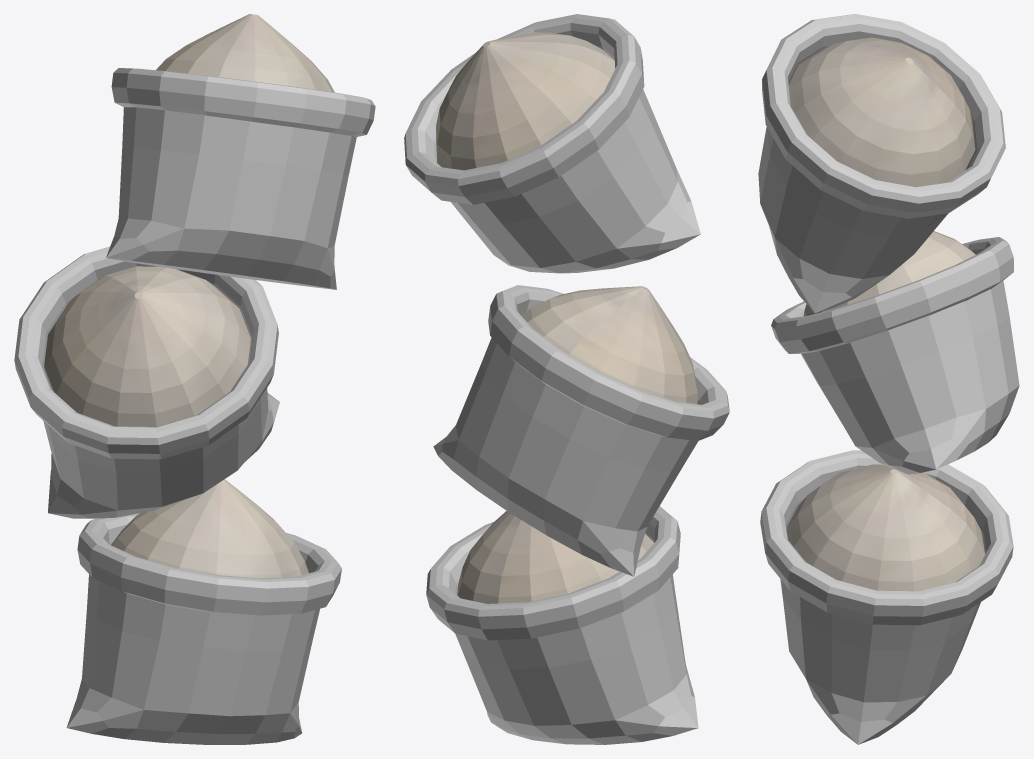
Rendered from flour3.fbx.
3 views of the same model, side by side, from view 1: azimuth 30°, elevation 25°; view 2: azimuth 150°, elevation 25°; view 3: azimuth 270°, elevation 25° (orthographic). The views are drawn at different scales.
Visible parts, largest first — view 1: Flour3; view 2: Flour3; view 3: Flour3.
Part boxes in pixels (x1=…): Flour3: x1=14, y1=14, x2=375, y2=744; Flour3: x1=404, y1=14, x2=729, y2=744; Flour3: x1=758, y1=14, x2=1019, y2=744.
Size of the model in its own units: 14.64 by 31.37 by 10.99.
